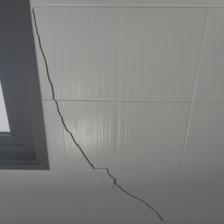Medium: (44, 53, 138, 197)
